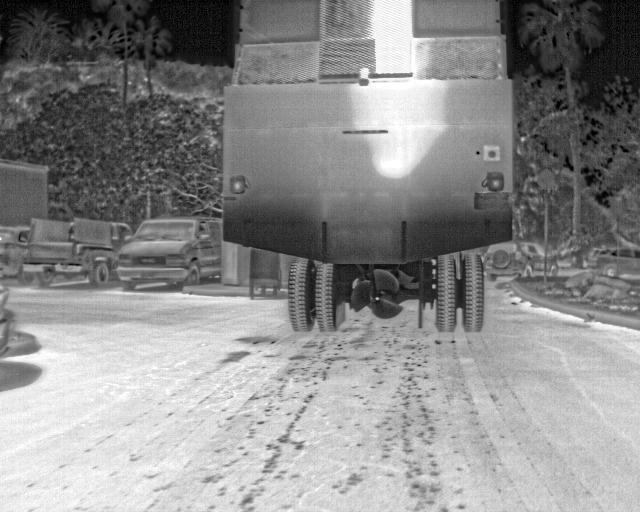bicycle: (26, 214, 133, 292), (117, 214, 220, 292), (486, 239, 561, 283), (0, 221, 31, 286)
